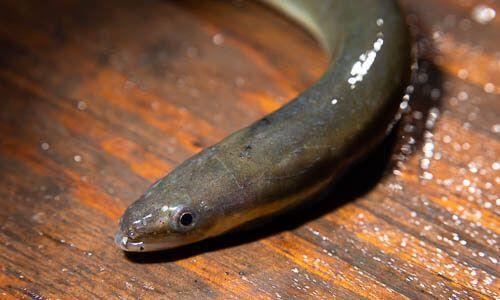Freshwater Eel: (116, 2, 413, 262)
